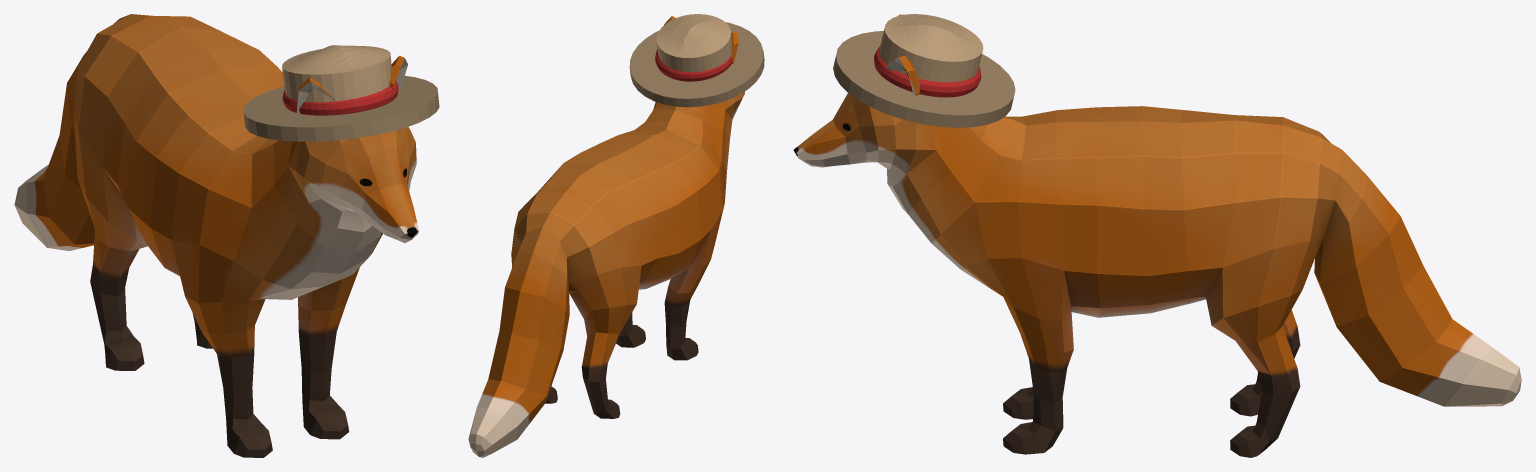
The model's file is fox2.fbx.
3 renders of one model, left to right at view 1: azimuth 30°, elevation 25°; view 2: azimuth 150°, elevation 25°; view 3: azimuth 270°, elevation 25°, orthographic. The views are drawn at different scales.
Parts seen in each view (by area): view 1: Fox_Mesh.001, Cylinder.013, Cylinder.012, Torus.006; view 2: Fox_Mesh.001, Cylinder.013, Cylinder.012, Torus.006; view 3: Fox_Mesh.001, Cylinder.013, Cylinder.012, Torus.006.
Part boxes in pixels (x1,y1,x2,y2): Fox_Mesh.001: (14, 14, 418, 457); Cylinder.013: (243, 76, 439, 141); Cylinder.012: (282, 45, 391, 102); Torus.006: (282, 80, 398, 115); Fox_Mesh.001: (468, 16, 744, 457); Cylinder.013: (629, 22, 764, 107); Cylinder.012: (656, 14, 731, 72); Torus.006: (655, 49, 733, 81); Fox_Mesh.001: (793, 14, 1521, 457); Cylinder.013: (833, 31, 1015, 127); Cylinder.012: (879, 14, 983, 82); Torus.006: (874, 46, 981, 97).
Bounding box in the file's own units: 107 × 233 × 383.
4 materials, 1 textured.
